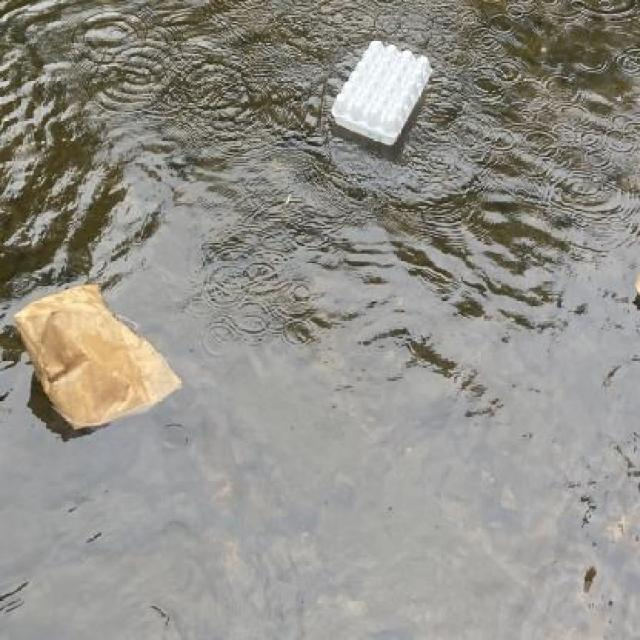Paper: (8, 273, 188, 441)
Plastic: (322, 31, 442, 152)
